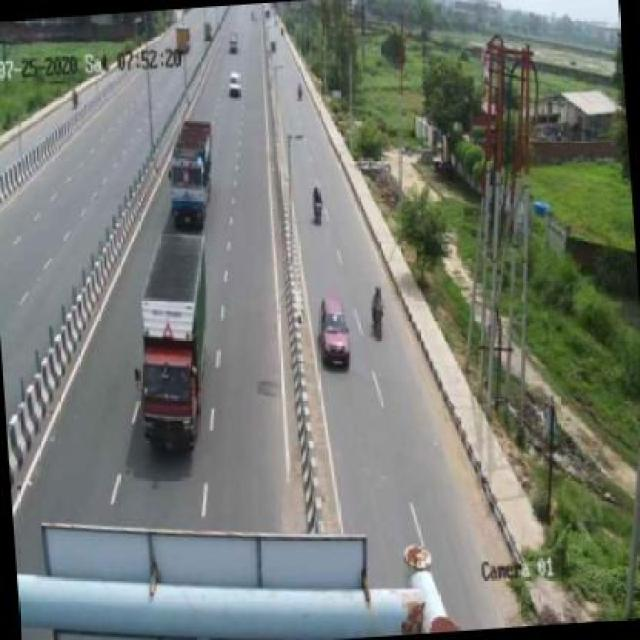car: (314, 289, 363, 374), (225, 69, 249, 100)
